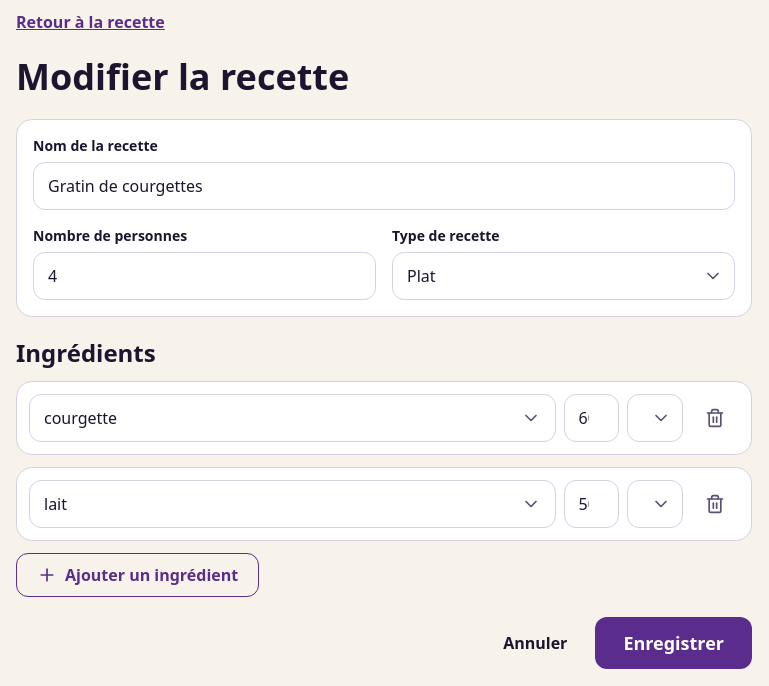
RecipeEditorView › modification › retire une ligne et en ajoute une vide
This screenshot has width=769, height=686.
Expected: the field labelled "Nom de la recette" holds "Gratin de courgettes", [33,162,735,210]
Expected: the number of list items is 2, [16,381,752,455]; [16,467,752,541]
Click the button named "Retirer l".
click(715, 418)  # box [691,394,739,442]
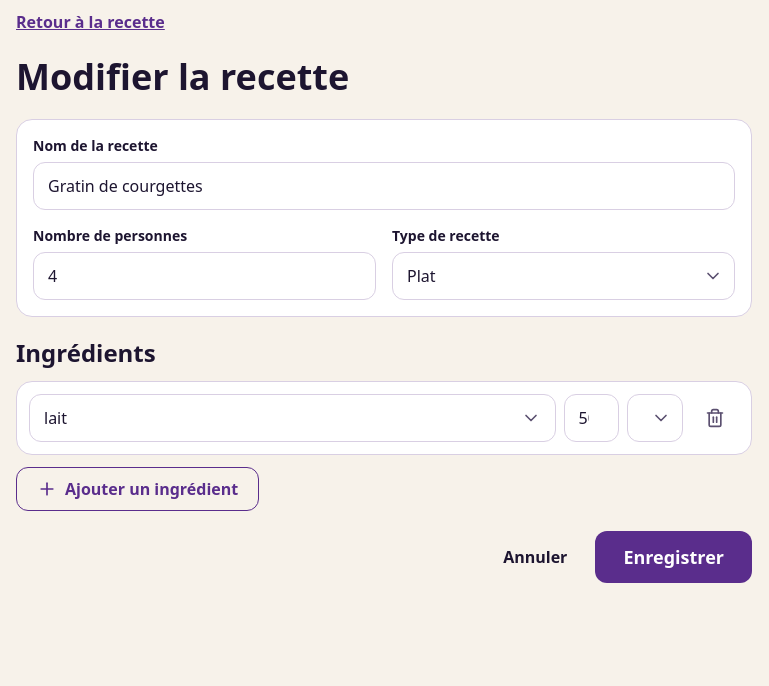
Result: the number of list items is 1 at [16,381,752,455]
Click the button "Ajouter un ingrédient".
click(138, 489)  # box [16,467,259,511]
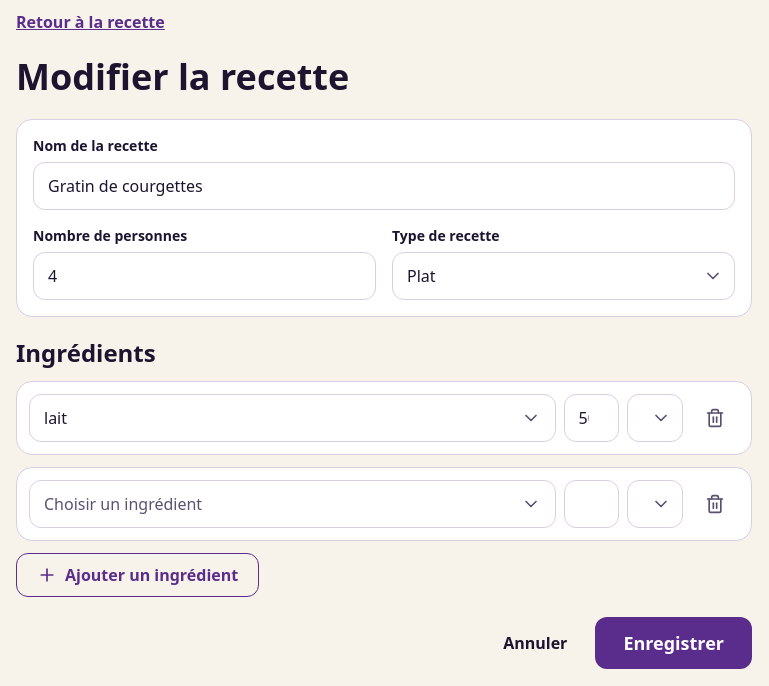
Result: the number of list items is 2 at [16,381,752,455]; [16,467,752,541]
